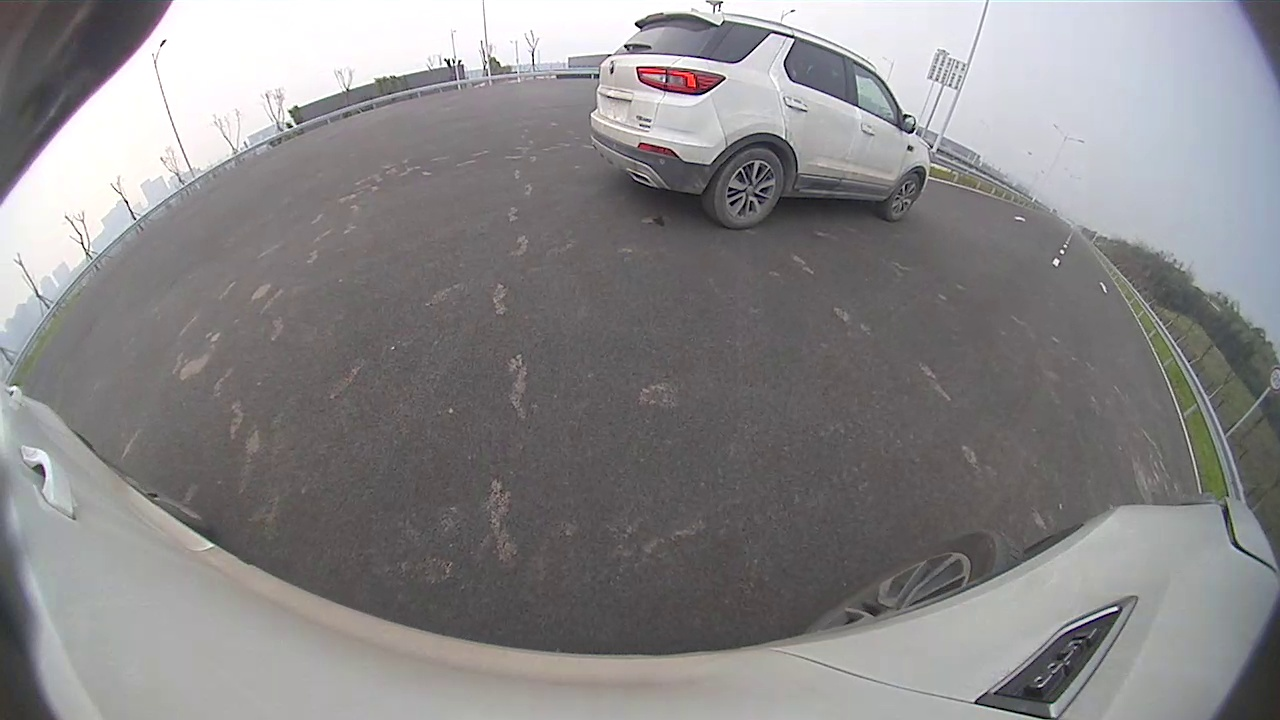car: (588, 5, 934, 230)
front: (886, 172, 923, 222)
rear: (710, 147, 786, 230)
